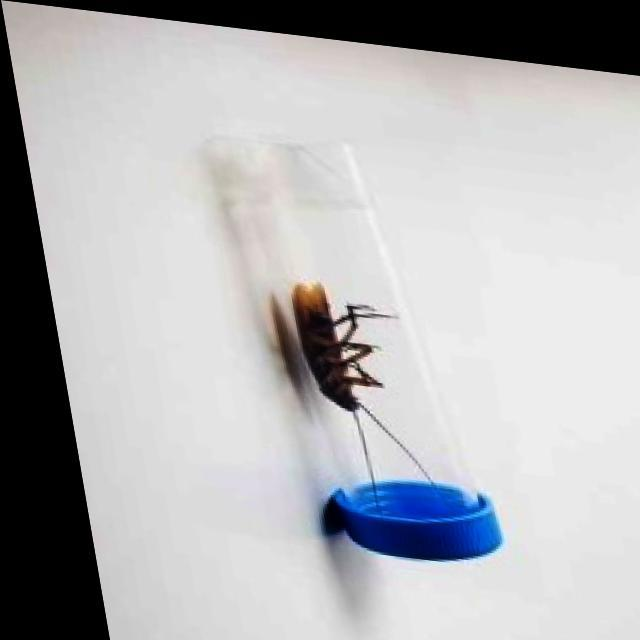cockroach: (267, 263, 408, 445)
